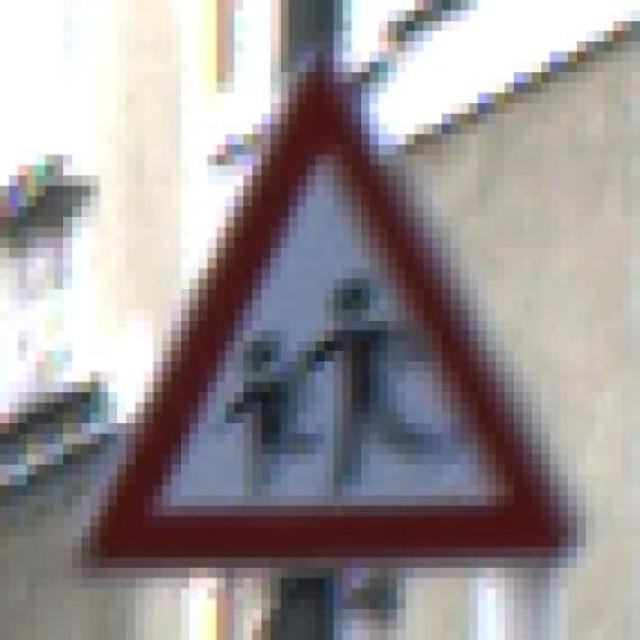Beware of children: (63, 51, 586, 568)
